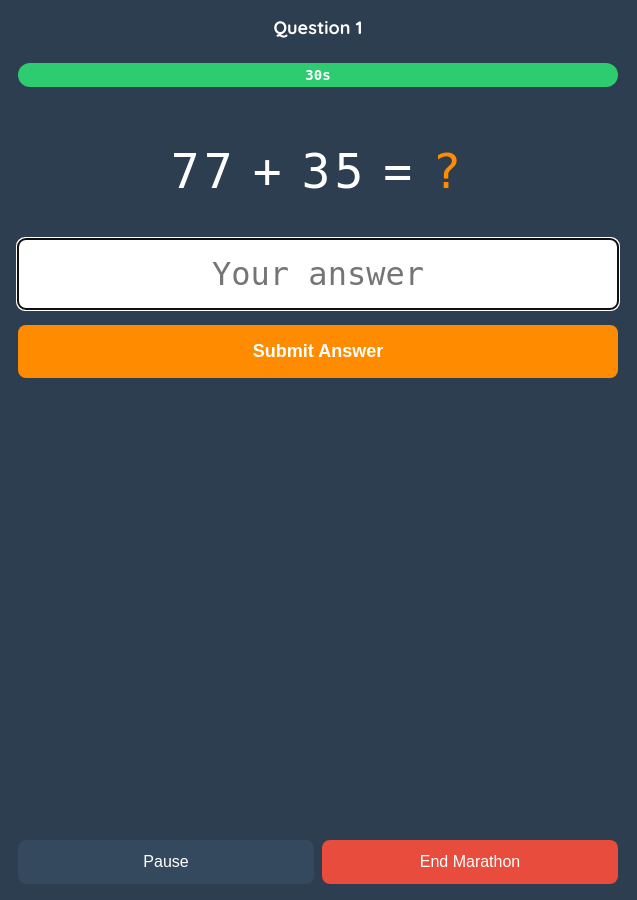
Test: MarathonInterface › Progress Tracking › should increment question counter in endless mode
Type "42" into the field with placeholder "Your answer". click: (318, 274)
box: x1=18 y1=239 x2=618 y2=309
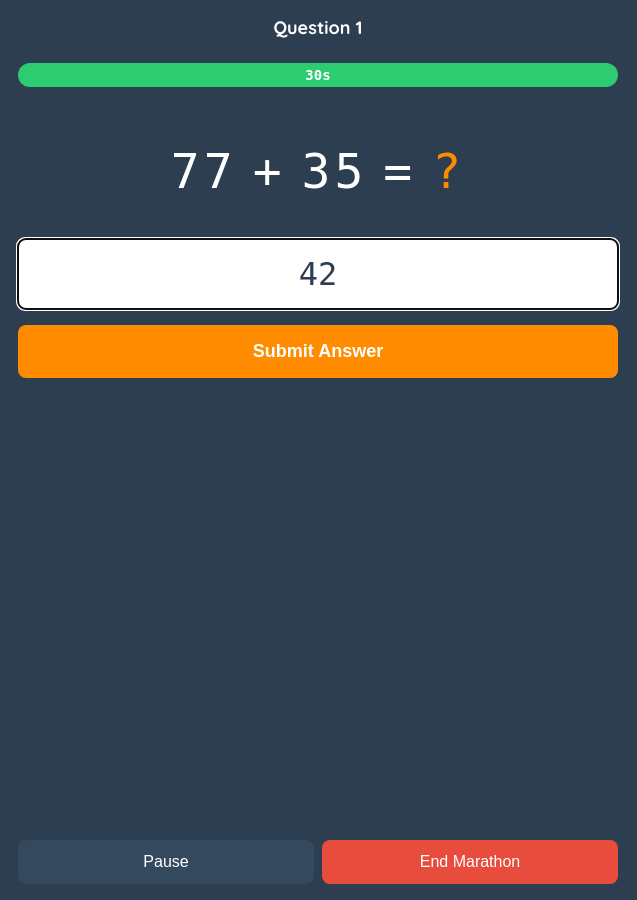
Click the button "Submit Answer". click: (318, 352)
box: x1=18 y1=325 x2=618 y2=378
Wait 1000 ms
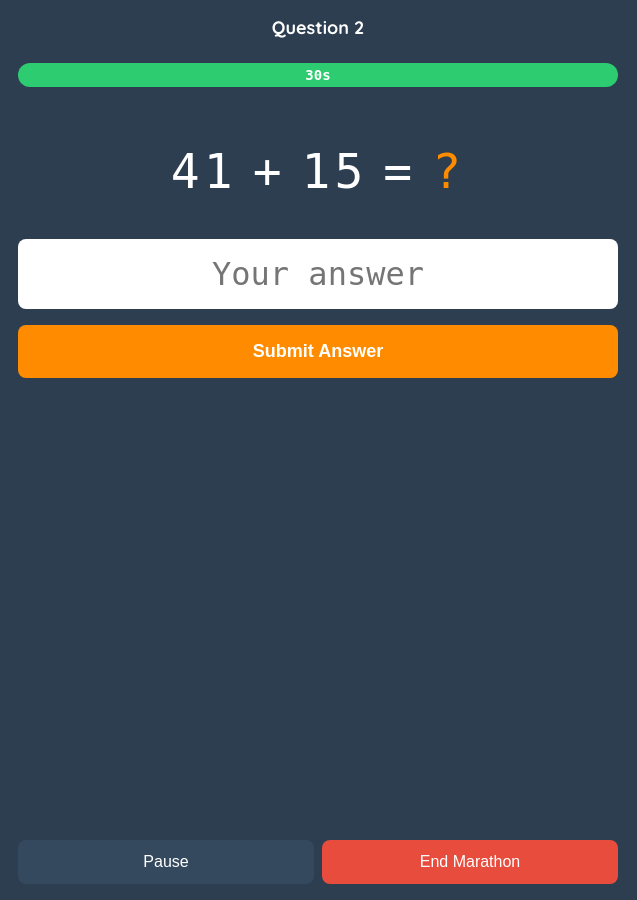
Expected: the text "Question 2" is shown, x1=272 y1=16 x2=364 y2=39
